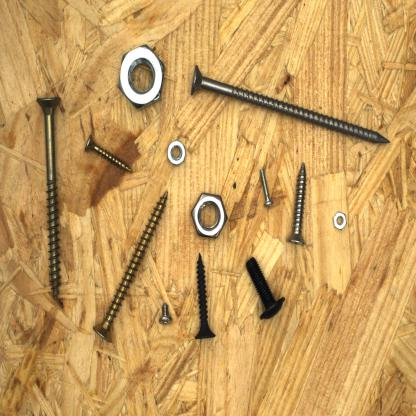screw: (188, 61, 394, 147), (90, 187, 172, 346), (33, 91, 65, 303), (243, 254, 288, 327), (193, 250, 220, 345), (81, 130, 135, 176), (284, 159, 310, 247), (254, 164, 278, 215), (157, 300, 175, 328)
